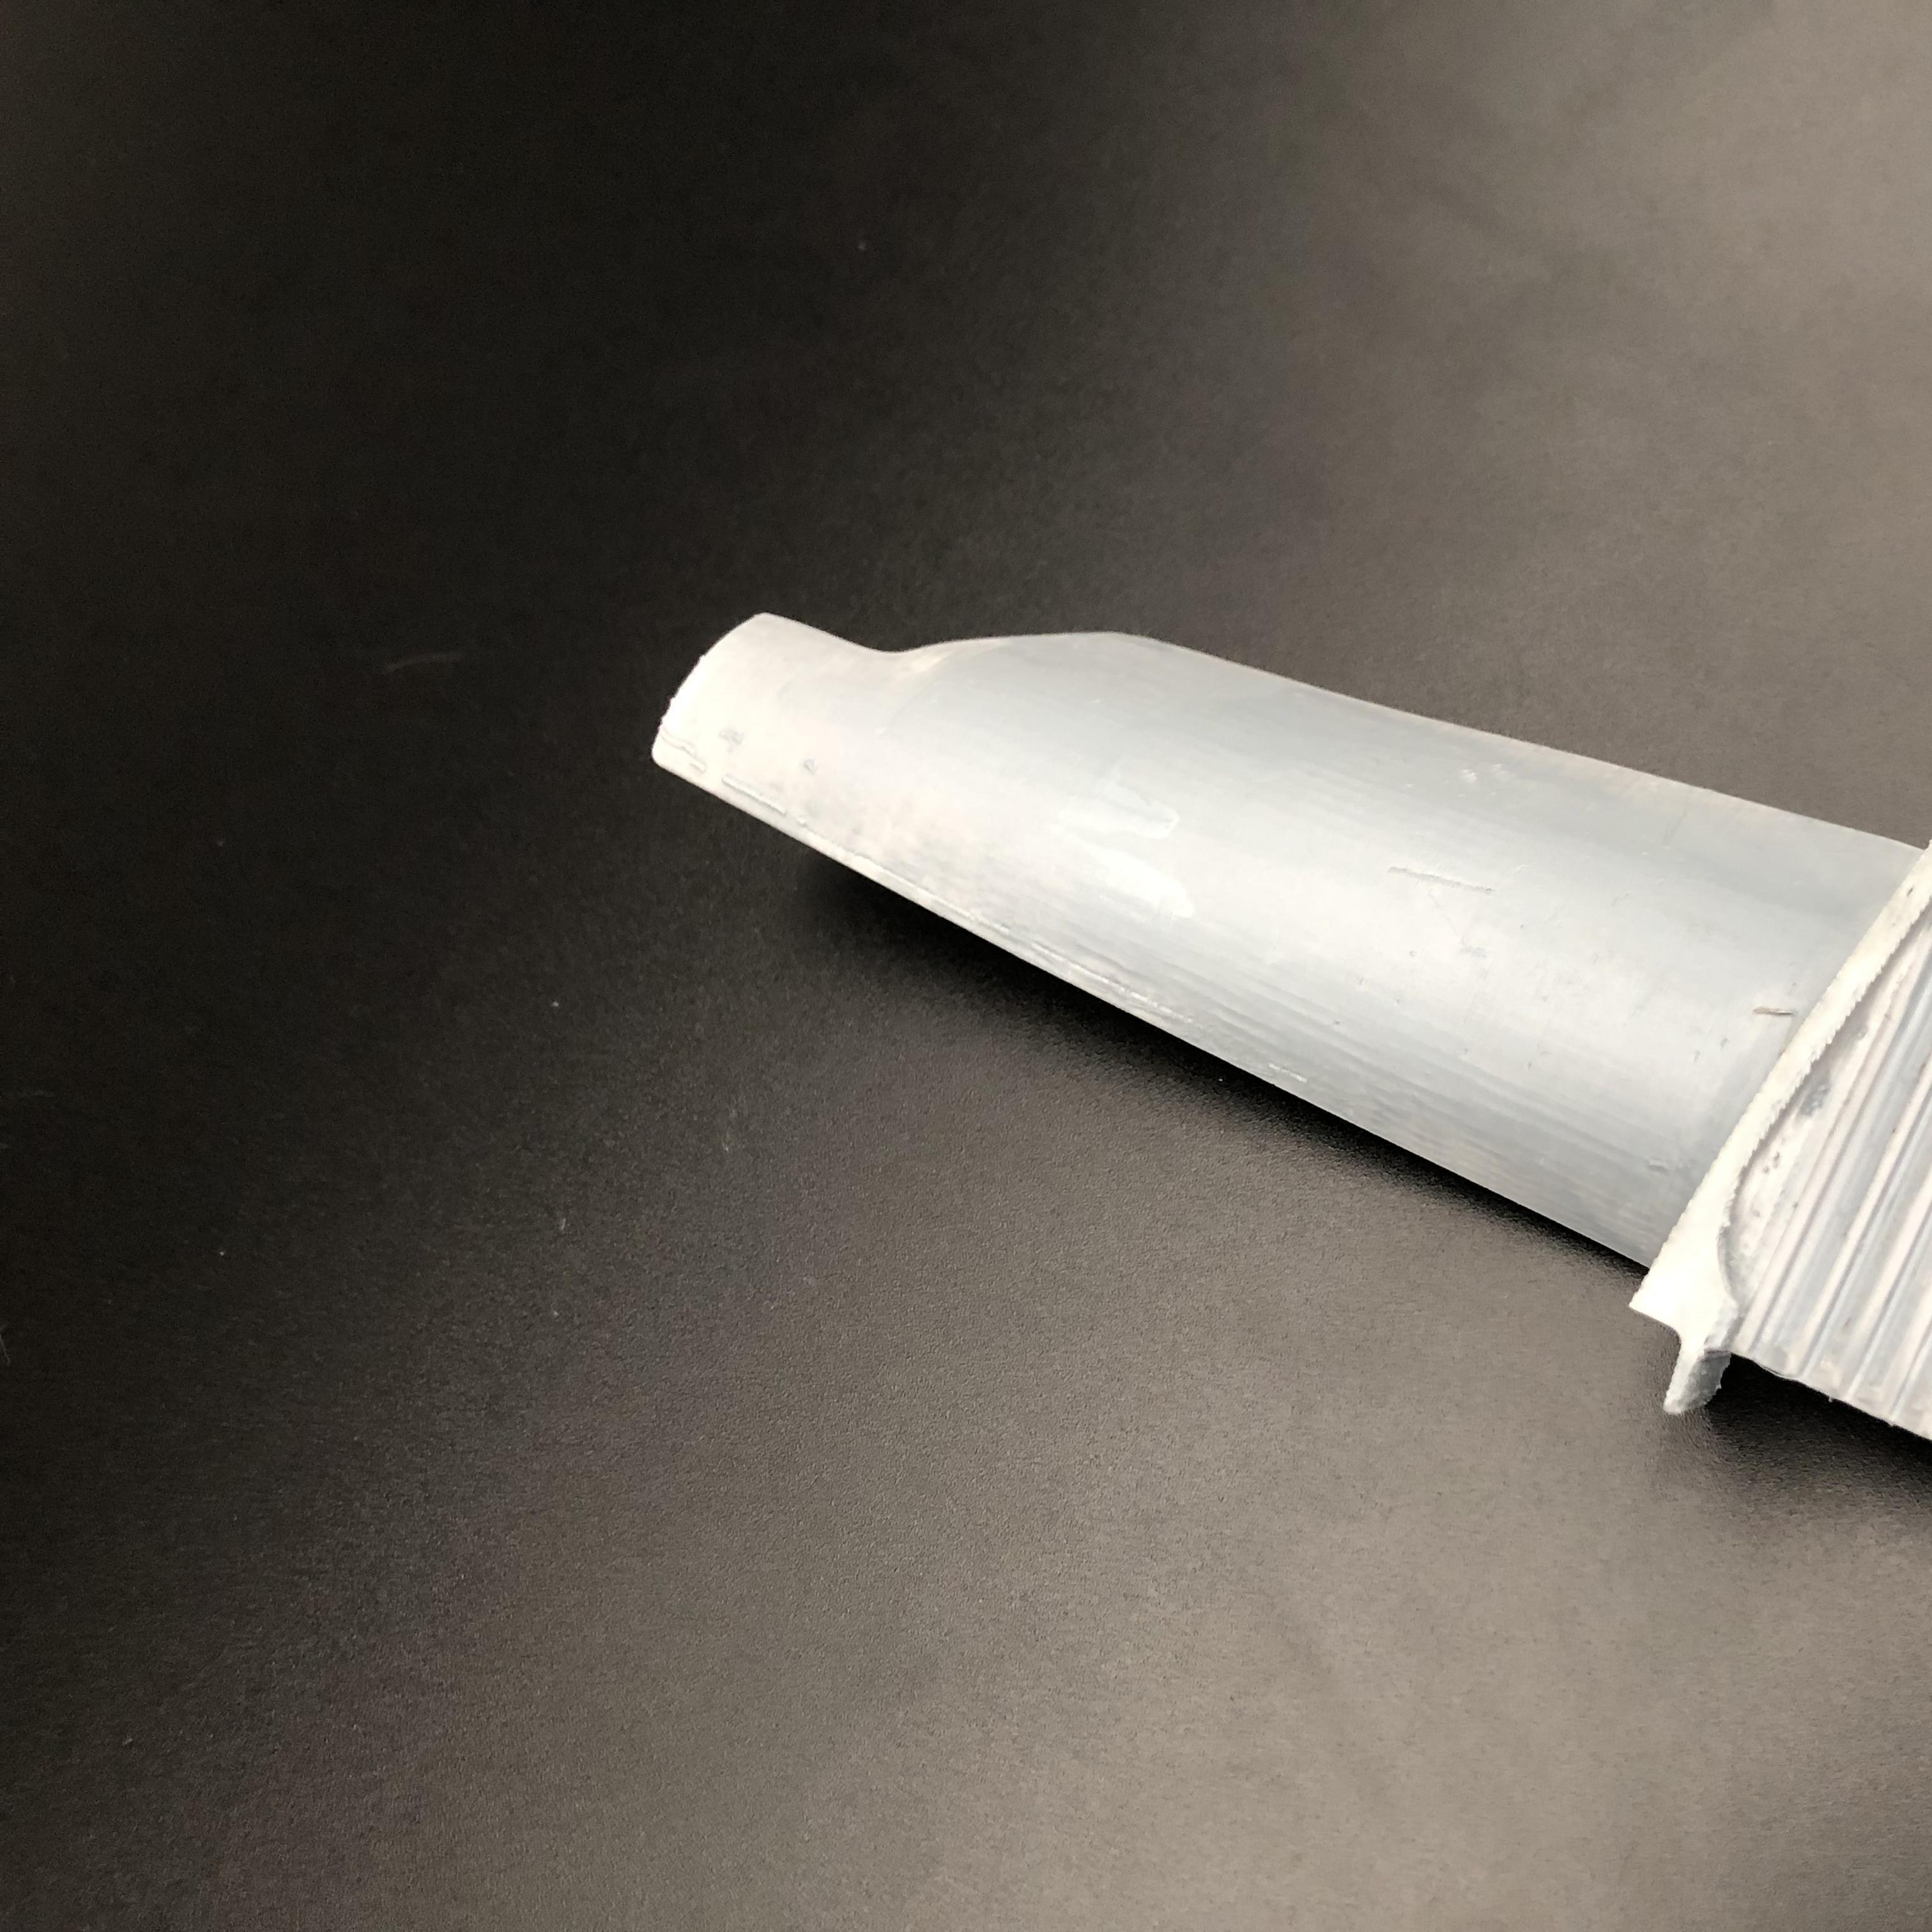fracture: (763, 591, 1157, 686)
